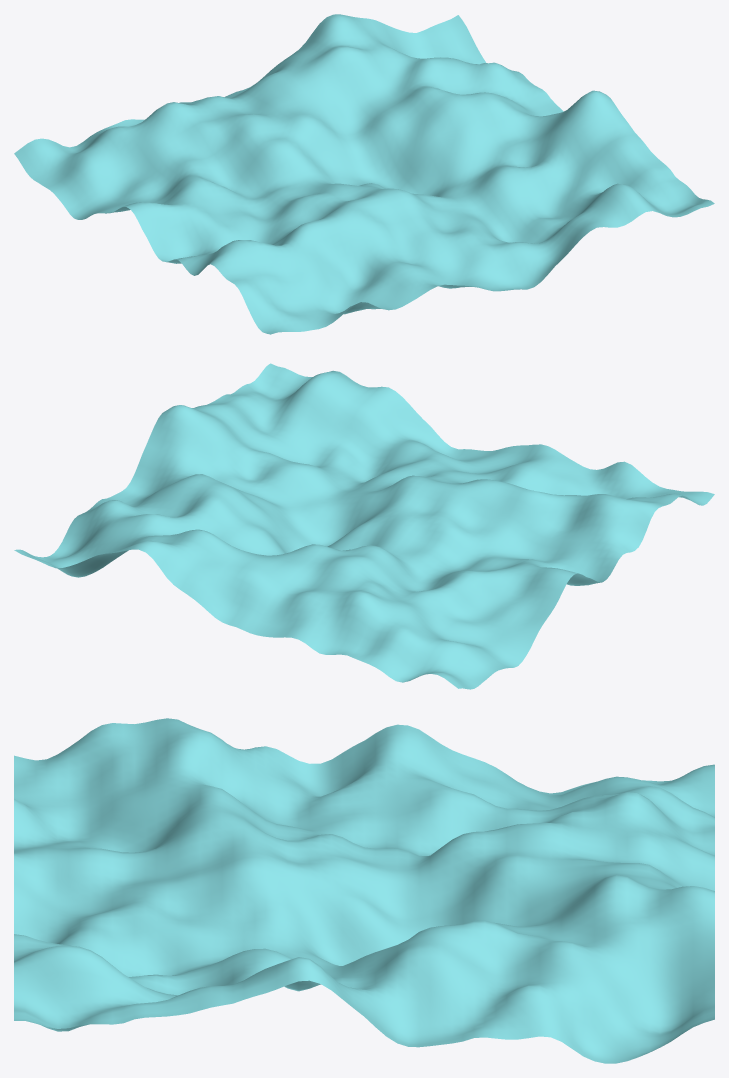
The model's file is ground.fbx.
The picture shows the model from 3 angles, top to bottom: view 1: azimuth 30°, elevation 25°; view 2: azimuth 150°, elevation 25°; view 3: azimuth 270°, elevation 25°; orthographic projection. The views are drawn at different scales.
Visible parts, largest first — view 1: Plane; view 2: Plane; view 3: Plane.
Part boxes in pixels (box(x1,y1,x2,y2)): Plane: box(14, 14, 714, 334); Plane: box(14, 363, 714, 689); Plane: box(14, 718, 714, 1063).
Size of the model in its own units: 12290 by 2337 by 12290.
